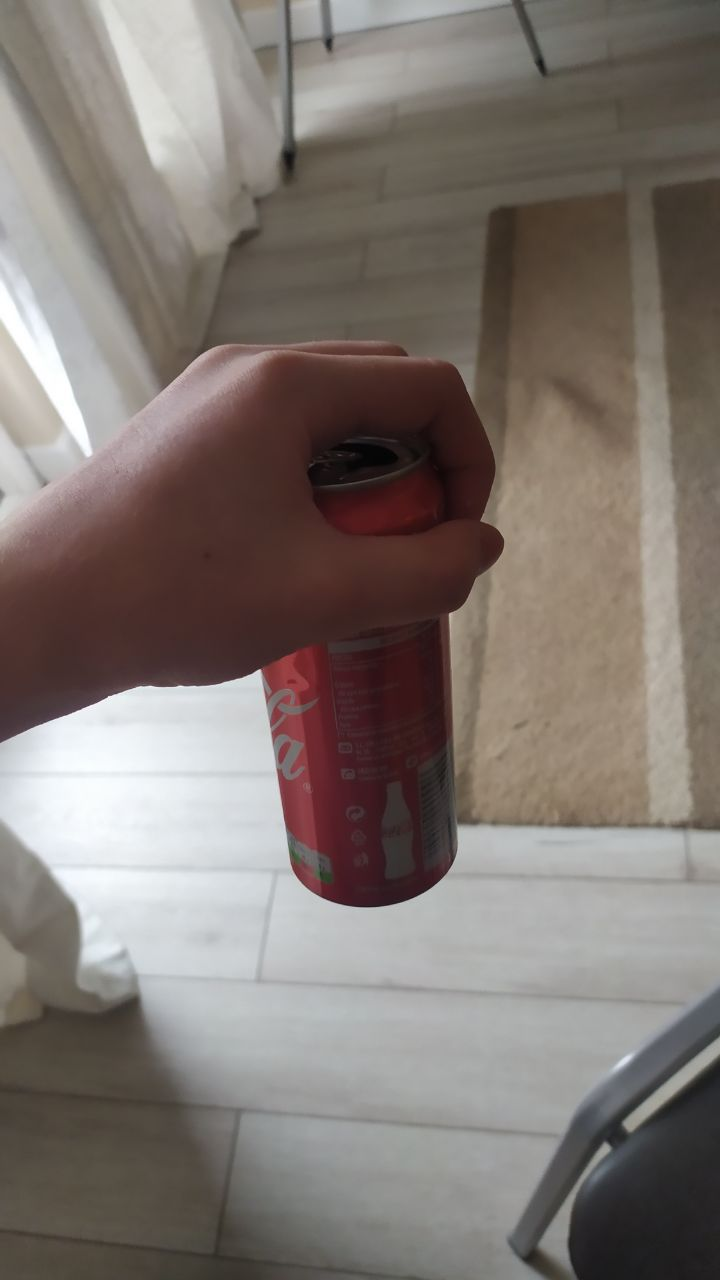Can: (240, 427, 481, 909)
